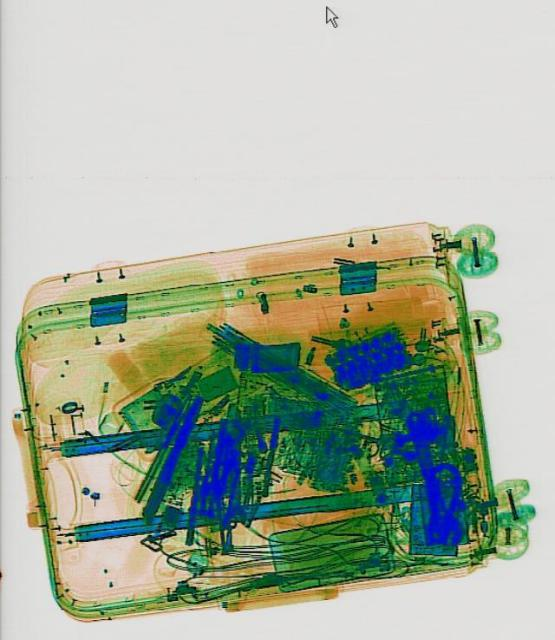Wrench: (391, 406, 465, 552), (218, 428, 249, 528)
